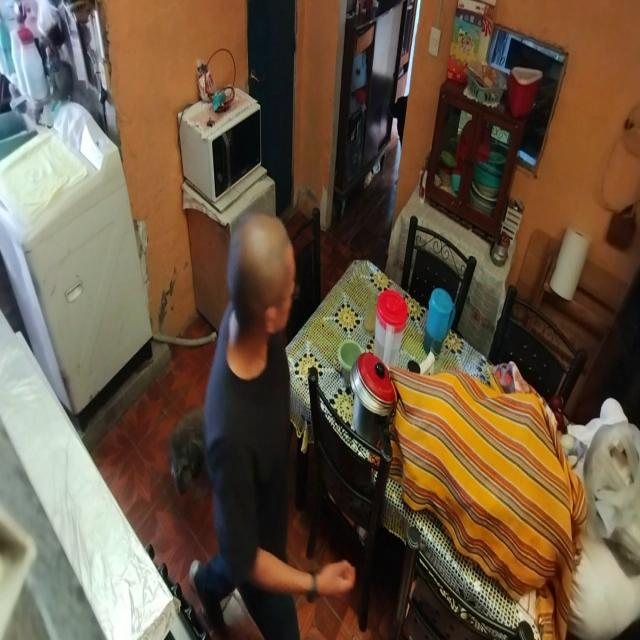adult: (189, 188, 359, 640)
